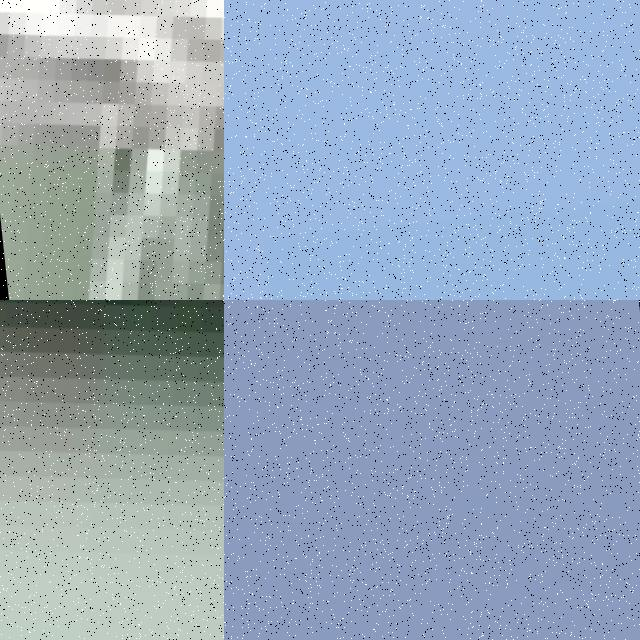0: (0, 0, 224, 300)
drone: (0, 300, 224, 640)
